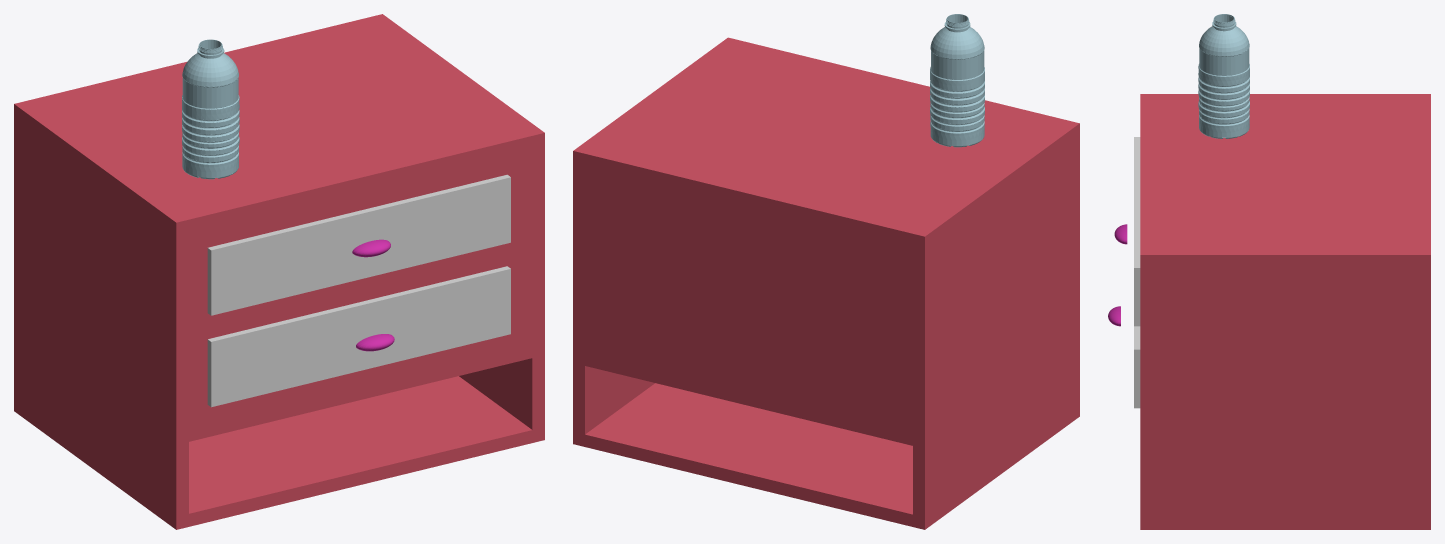
File: Coding Project 149.glb
3 renders of one model, left to right at view 1: azimuth 30°, elevation 25°; view 2: azimuth 150°, elevation 25°; view 3: azimuth 270°, elevation 25°, orthographic. The views are drawn at different scales.
Visible parts, largest first — view 1: Mesh_Mesh_head_geo.001_lambert2SG.001; view 2: Mesh_Mesh_head_geo.001_lambert2SG.001; view 3: Mesh_Mesh_head_geo.001_lambert2SG.001.
Boxes of the visible parts, bbox=[...] form: Mesh_Mesh_head_geo.001_lambert2SG.001: bbox=[14, 14, 544, 529]; Mesh_Mesh_head_geo.001_lambert2SG.001: bbox=[573, 14, 1079, 529]; Mesh_Mesh_head_geo.001_lambert2SG.001: bbox=[1108, 14, 1430, 529].
Size of the model in its own units: 59 by 66 by 50.
